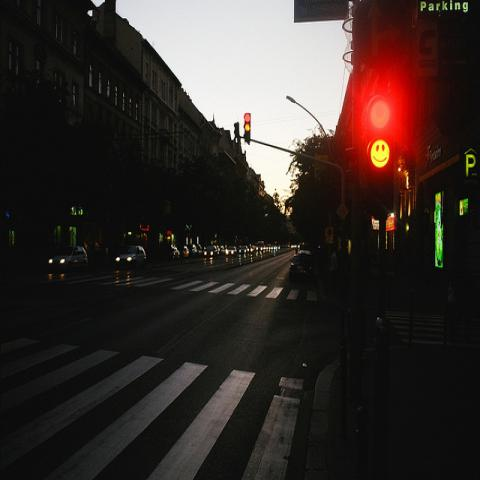car: (48, 246, 88, 272), (289, 249, 314, 285), (115, 244, 146, 267), (204, 246, 218, 259), (225, 245, 237, 258), (239, 246, 250, 255), (256, 240, 264, 252)
